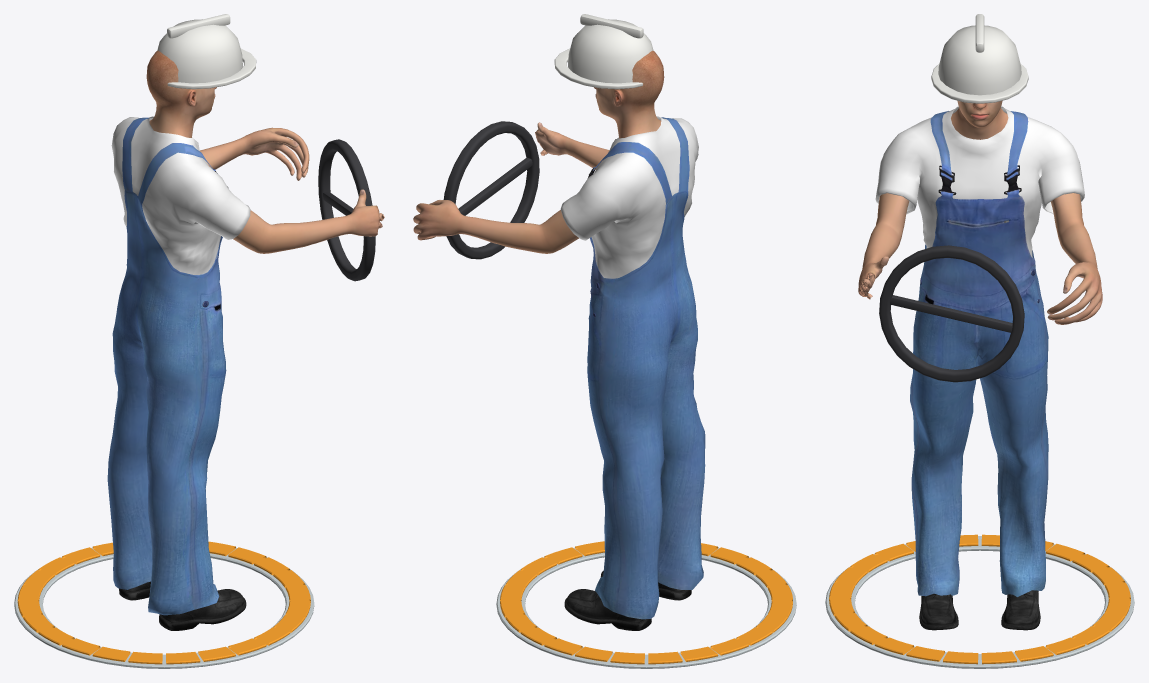
File: MDO-EQP-002.glb
3 renders of one model, left to right at view 1: azimuth 30°, elevation 25°; view 2: azimuth 150°, elevation 25°; view 3: azimuth 270°, elevation 25°, orthographic. The views are drawn at different scales.
Parts seen in each view (by area): view 1: MDO-EQP-002_pessoa_male_worksuit01, MDO-EQP-002_pessoa, MDO-EQP-002_capacete, MDO-EQP-002_anel_fundo, MDO-EQP-002_ferD_volante, MDO-EQP-002_pessoa_shoes04, MDO-EQP-002_capacete_aba, MDO-EQP-002_capacete_friso; view 2: MDO-EQP-002_pessoa_male_worksuit01, MDO-EQP-002_pessoa, MDO-EQP-002_capacete, MDO-EQP-002_ferD_volante, MDO-EQP-002_anel_fundo, MDO-EQP-002_pessoa_shoes04, MDO-EQP-002_ferD_raio, MDO-EQP-002_capacete_aba, MDO-EQP-002_capacete_friso; view 3: MDO-EQP-002_pessoa_male_worksuit01, MDO-EQP-002_pessoa, MDO-EQP-002_ferD_volante, MDO-EQP-002_capacete, MDO-EQP-002_anel_fundo, MDO-EQP-002_pessoa_shoes04, MDO-EQP-002_ferD_raio, MDO-EQP-002_capacete_aba.
Boxes of the visible parts, bbox=[...] form: MDO-EQP-002_pessoa_male_worksuit01: bbox=[107, 116, 250, 615]; MDO-EQP-002_pessoa: bbox=[146, 50, 384, 253]; MDO-EQP-002_capacete: bbox=[157, 19, 242, 83]; MDO-EQP-002_anel_fundo: bbox=[14, 547, 314, 668]; MDO-EQP-002_ferD_volante: bbox=[318, 139, 375, 281]; MDO-EQP-002_pessoa_shoes04: bbox=[119, 581, 246, 630]; MDO-EQP-002_capacete_aba: bbox=[167, 48, 256, 89]; MDO-EQP-002_capacete_friso: bbox=[167, 14, 230, 38]; MDO-EQP-002_pessoa_male_worksuit01: bbox=[560, 116, 705, 619]; MDO-EQP-002_pessoa: bbox=[413, 50, 664, 253]; MDO-EQP-002_capacete: bbox=[568, 19, 653, 83]; MDO-EQP-002_ferD_volante: bbox=[443, 121, 539, 259]; MDO-EQP-002_anel_fundo: bbox=[496, 547, 796, 668]; MDO-EQP-002_pessoa_shoes04: bbox=[564, 571, 691, 630]; MDO-EQP-002_ferD_raio: bbox=[458, 157, 532, 215]; MDO-EQP-002_capacete_aba: bbox=[554, 48, 642, 89]; MDO-EQP-002_capacete_friso: bbox=[580, 14, 643, 38]; MDO-EQP-002_pessoa_male_worksuit01: bbox=[875, 106, 1084, 596]; MDO-EQP-002_pessoa: bbox=[858, 100, 1102, 324]; MDO-EQP-002_ferD_volante: bbox=[879, 245, 1024, 382]; MDO-EQP-002_capacete: bbox=[938, 25, 1021, 95]; MDO-EQP-002_anel_fundo: bbox=[825, 536, 1134, 668]; MDO-EQP-002_pessoa_shoes04: bbox=[919, 590, 1040, 630]; MDO-EQP-002_ferD_raio: bbox=[890, 295, 1012, 332]; MDO-EQP-002_capacete_aba: bbox=[931, 63, 1028, 103].
Size of the model in its own units: 1.02 by 1.79 by 0.84.
Materials: 9 (5 with a texture image).
